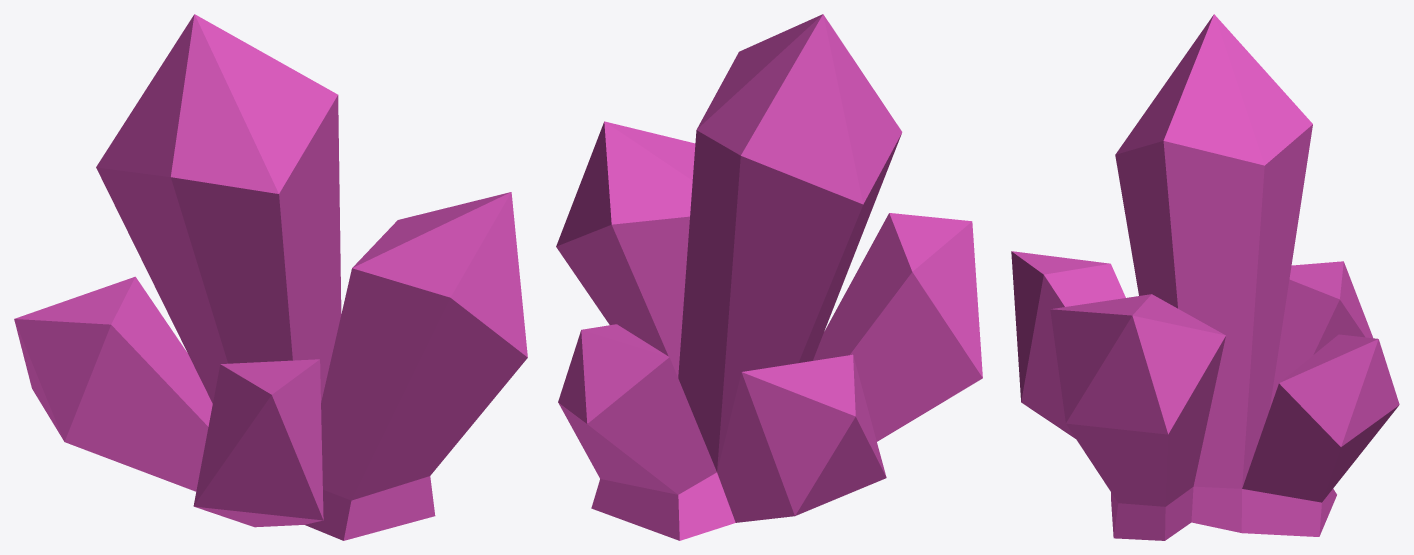
The model's file is Crystal-C01.fbx.
The picture shows the model from 3 angles, left to right: view 1: azimuth 30°, elevation 25°; view 2: azimuth 150°, elevation 25°; view 3: azimuth 270°, elevation 25°; orthographic projection. The views are drawn at different scales.
Visible parts, largest first — view 1: Crystal-C01; view 2: Crystal-C01; view 3: Crystal-C01.
Boxes of the visible parts, <box> form: Crystal-C01: <box>14,14,527,540</box>; Crystal-C01: <box>556,14,982,540</box>; Crystal-C01: <box>1011,14,1399,540</box>.
Bounding box in the file's own units: 99.28 × 119 × 93.14.
